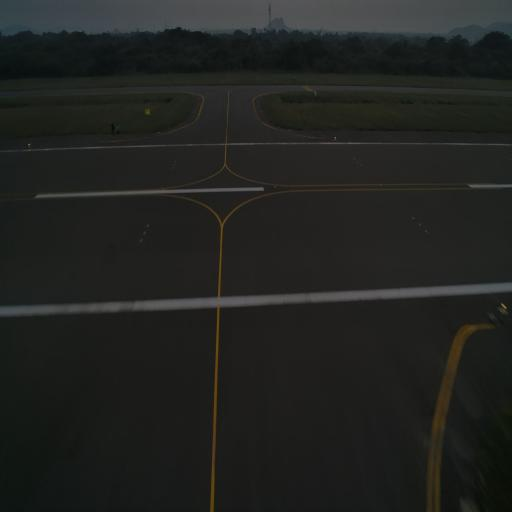off: (411, 213, 416, 222), (140, 236, 144, 245), (142, 229, 147, 236), (146, 222, 150, 230), (424, 227, 428, 235), (417, 220, 421, 227)
on: (333, 134, 338, 142), (28, 140, 32, 147)
